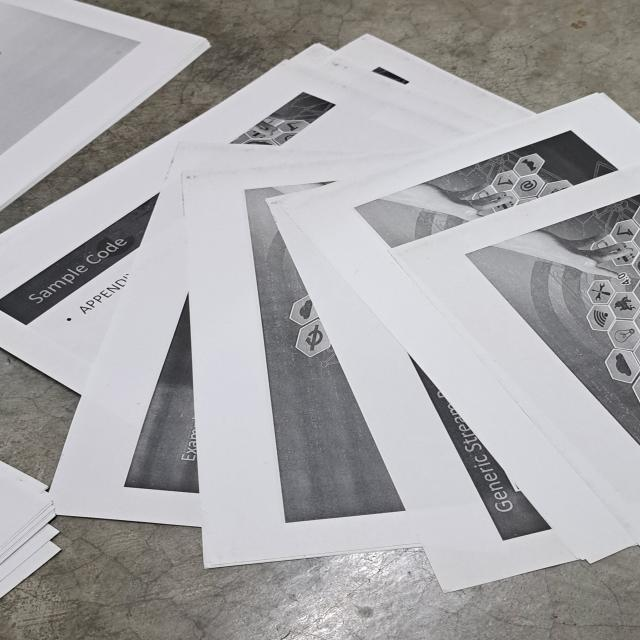paper: (0, 32, 640, 595), (0, 0, 213, 217)
